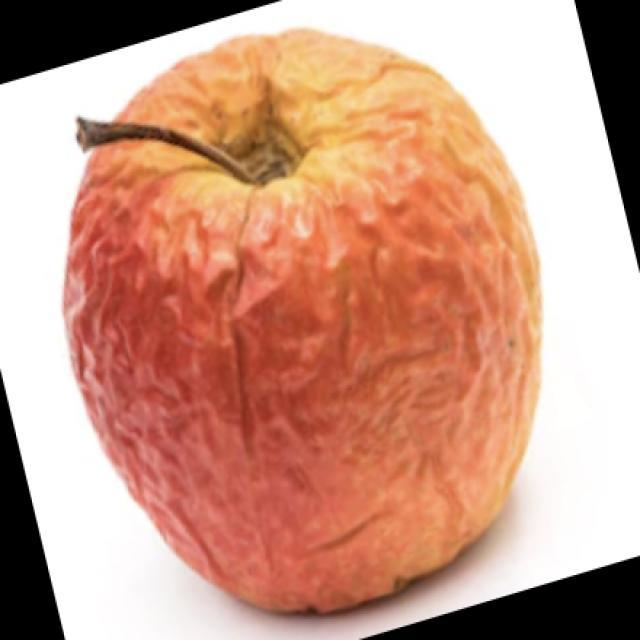Rotten: (87, 30, 543, 610)
